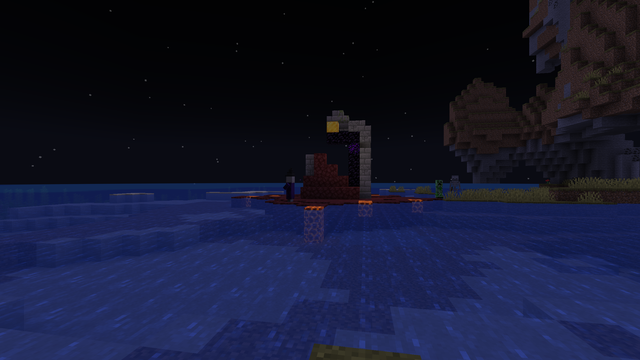creepers: (434, 179, 443, 198)
sorcieres: (285, 175, 295, 201)
squelettes: (450, 175, 460, 198)
